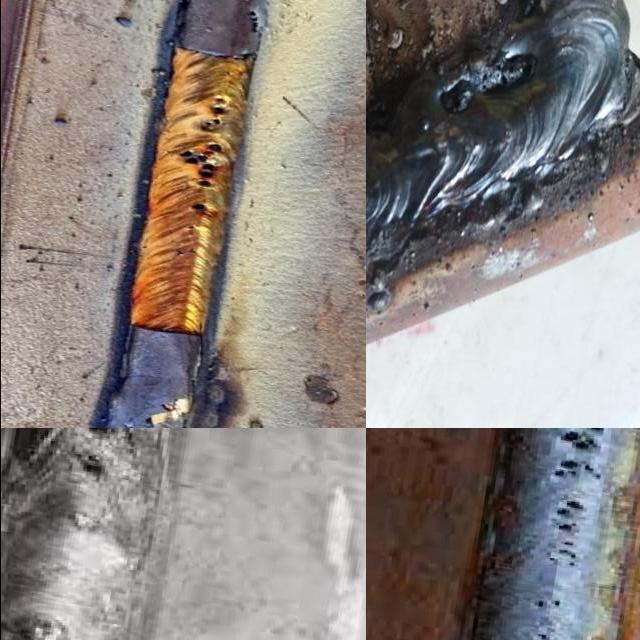defect: (440, 52, 538, 117), (546, 428, 610, 483), (173, 140, 226, 190), (72, 440, 121, 480), (545, 497, 594, 535), (535, 538, 589, 570), (198, 94, 228, 131), (530, 597, 564, 613), (247, 9, 260, 34), (528, 628, 552, 640), (184, 202, 208, 213), (175, 247, 198, 256), (185, 223, 200, 230)
